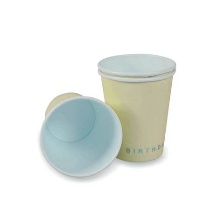paper_cup: (92, 46, 179, 168), (30, 88, 127, 182)
